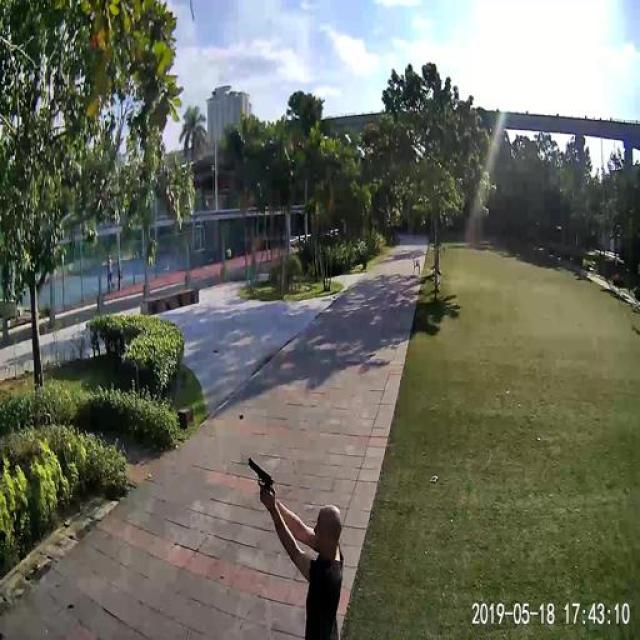Gun: (240, 453, 288, 499)
